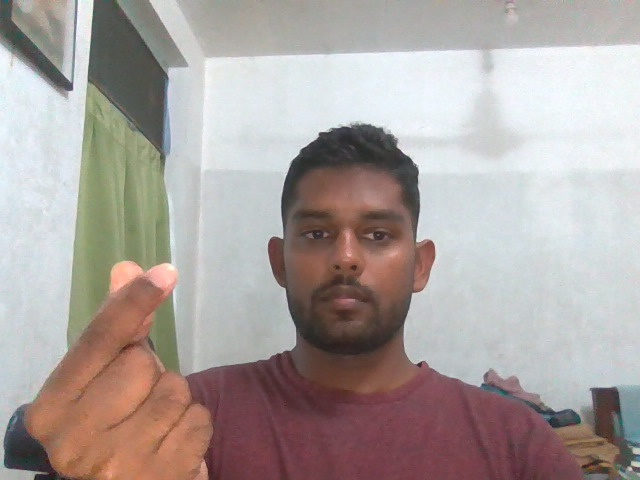iloveyou: (7, 248, 223, 480)
